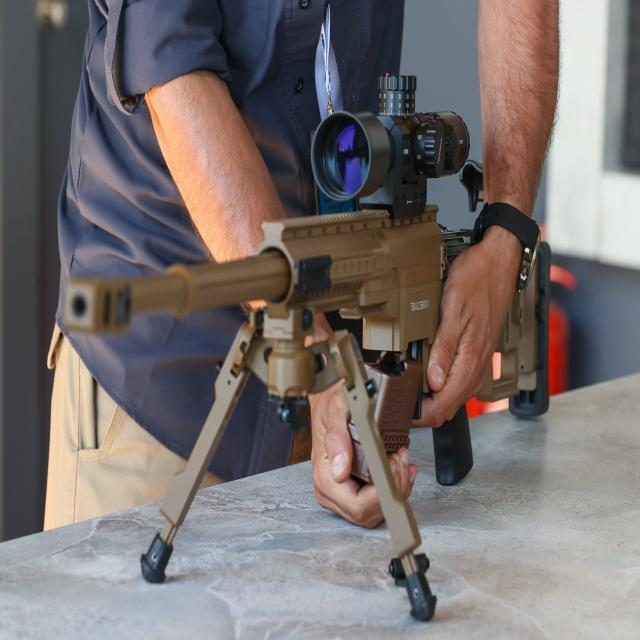scope: (303, 84, 468, 209)
sniper rifle: (73, 122, 545, 607)
